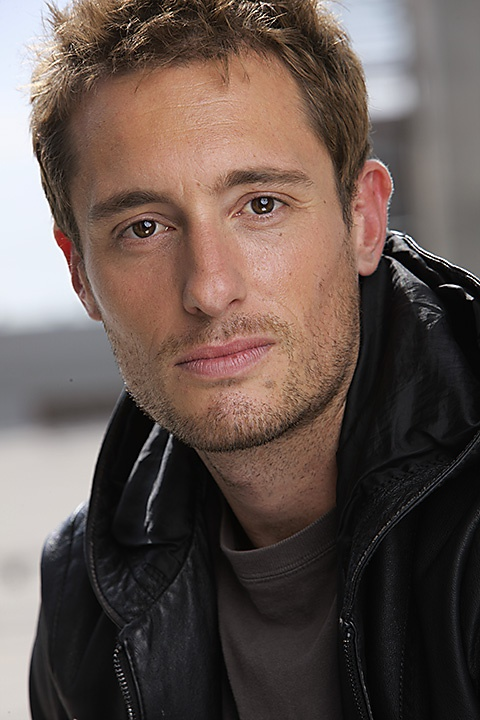bad: (27, 99, 348, 420)
